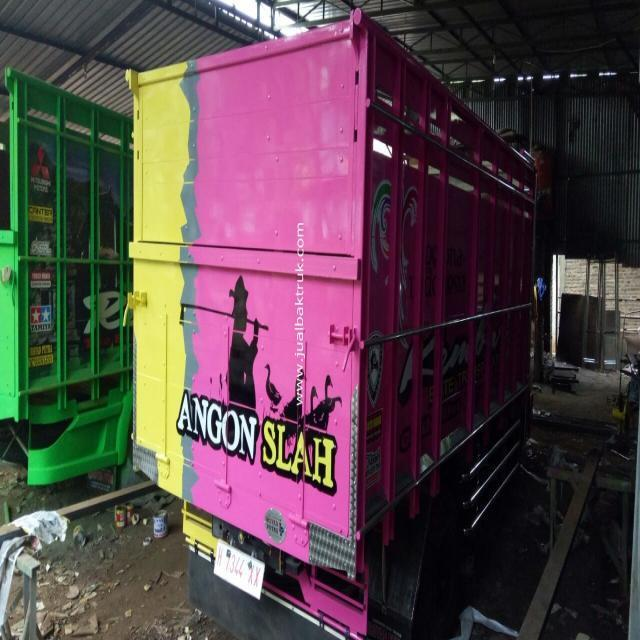truck: (123, 35, 540, 640)
